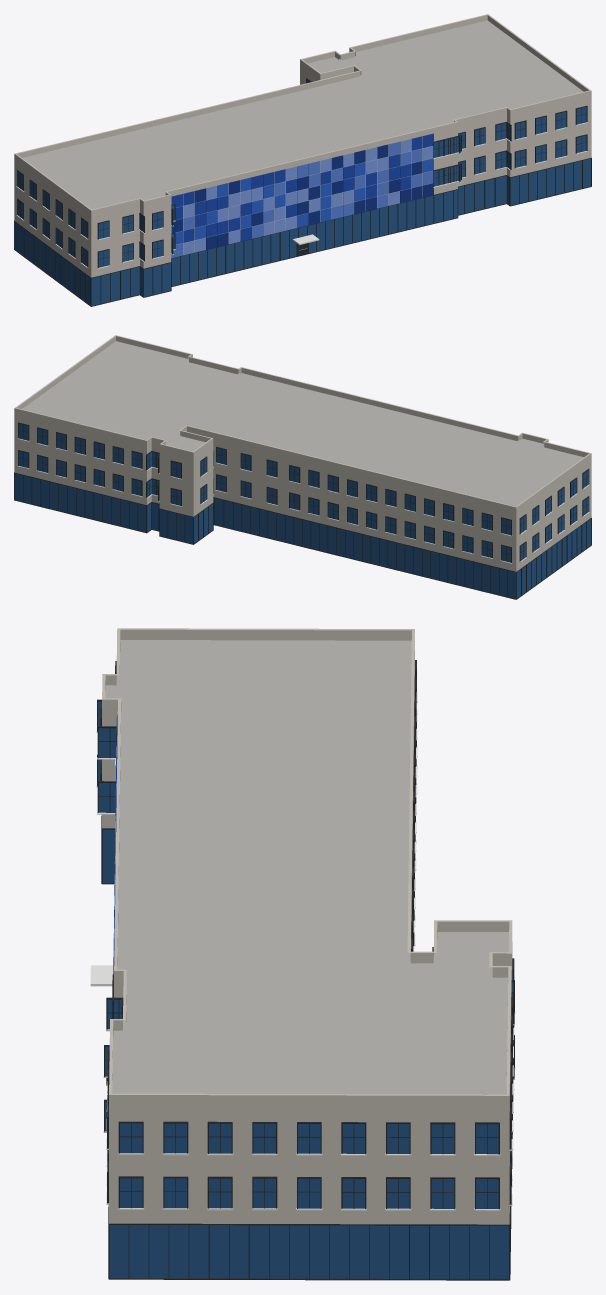
Rendered from science_learning_center.glb.
The picture shows the model from 3 angles, top to bottom: view 1: azimuth 30°, elevation 25°; view 2: azimuth 150°, elevation 25°; view 3: azimuth 270°, elevation 25°; orthographic projection. The views are drawn at different scales.
Visible parts, largest first — view 1: science_learning_center_Roof_Membrane, science_learning_center_Wall_stoneGray, science_learning_center_Glass_blue, science_learning_center_Frame_Dark, science_learning_center_Mosaic_7c9fe6, science_learning_center_Mosaic_1f4fb6, science_learning_center_Mosaic_173c8f, science_learning_center_Mosaic_5a86df, science_learning_center_Mosaic_2d66d1, science_learning_center_Trim_White; view 2: science_learning_center_Roof_Membrane, science_learning_center_Wall_stoneGray, science_learning_center_Glass_blue, science_learning_center_Frame_Dark, science_learning_center_Trim_White; view 3: science_learning_center_Roof_Membrane, science_learning_center_Wall_stoneGray, science_learning_center_Glass_blue, science_learning_center_Frame_Dark, science_learning_center_Trim_White.
Part boxes in pixels (bbox=[...]): science_learning_center_Roof_Membrane: bbox=[22, 20, 583, 209]; science_learning_center_Wall_stoneGray: bbox=[14, 14, 591, 277]; science_learning_center_Glass_blue: bbox=[14, 80, 590, 305]; science_learning_center_Frame_Dark: bbox=[14, 78, 591, 306]; science_learning_center_Mosaic_7c9fe6: bbox=[183, 139, 433, 255]; science_learning_center_Mosaic_1f4fb6: bbox=[171, 133, 433, 242]; science_learning_center_Mosaic_173c8f: bbox=[171, 144, 433, 249]; science_learning_center_Mosaic_5a86df: bbox=[171, 141, 433, 257]; science_learning_center_Mosaic_2d66d1: bbox=[175, 158, 433, 244]; science_learning_center_Trim_White: bbox=[16, 122, 587, 268]; science_learning_center_Roof_Membrane: bbox=[22, 341, 583, 506]; science_learning_center_Wall_stoneGray: bbox=[14, 335, 591, 571]; science_learning_center_Glass_blue: bbox=[14, 423, 591, 598]; science_learning_center_Frame_Dark: bbox=[14, 422, 591, 599]; science_learning_center_Trim_White: bbox=[17, 438, 589, 563]; science_learning_center_Roof_Membrane: bbox=[105, 640, 508, 1094]; science_learning_center_Wall_stoneGray: bbox=[102, 628, 512, 1224]; science_learning_center_Glass_blue: bbox=[98, 701, 513, 1278]; science_learning_center_Frame_Dark: bbox=[97, 660, 514, 1280]; science_learning_center_Trim_White: bbox=[90, 691, 515, 1210].
Bounding box in the file's own units: 88.18 × 16.14 × 33.68.
